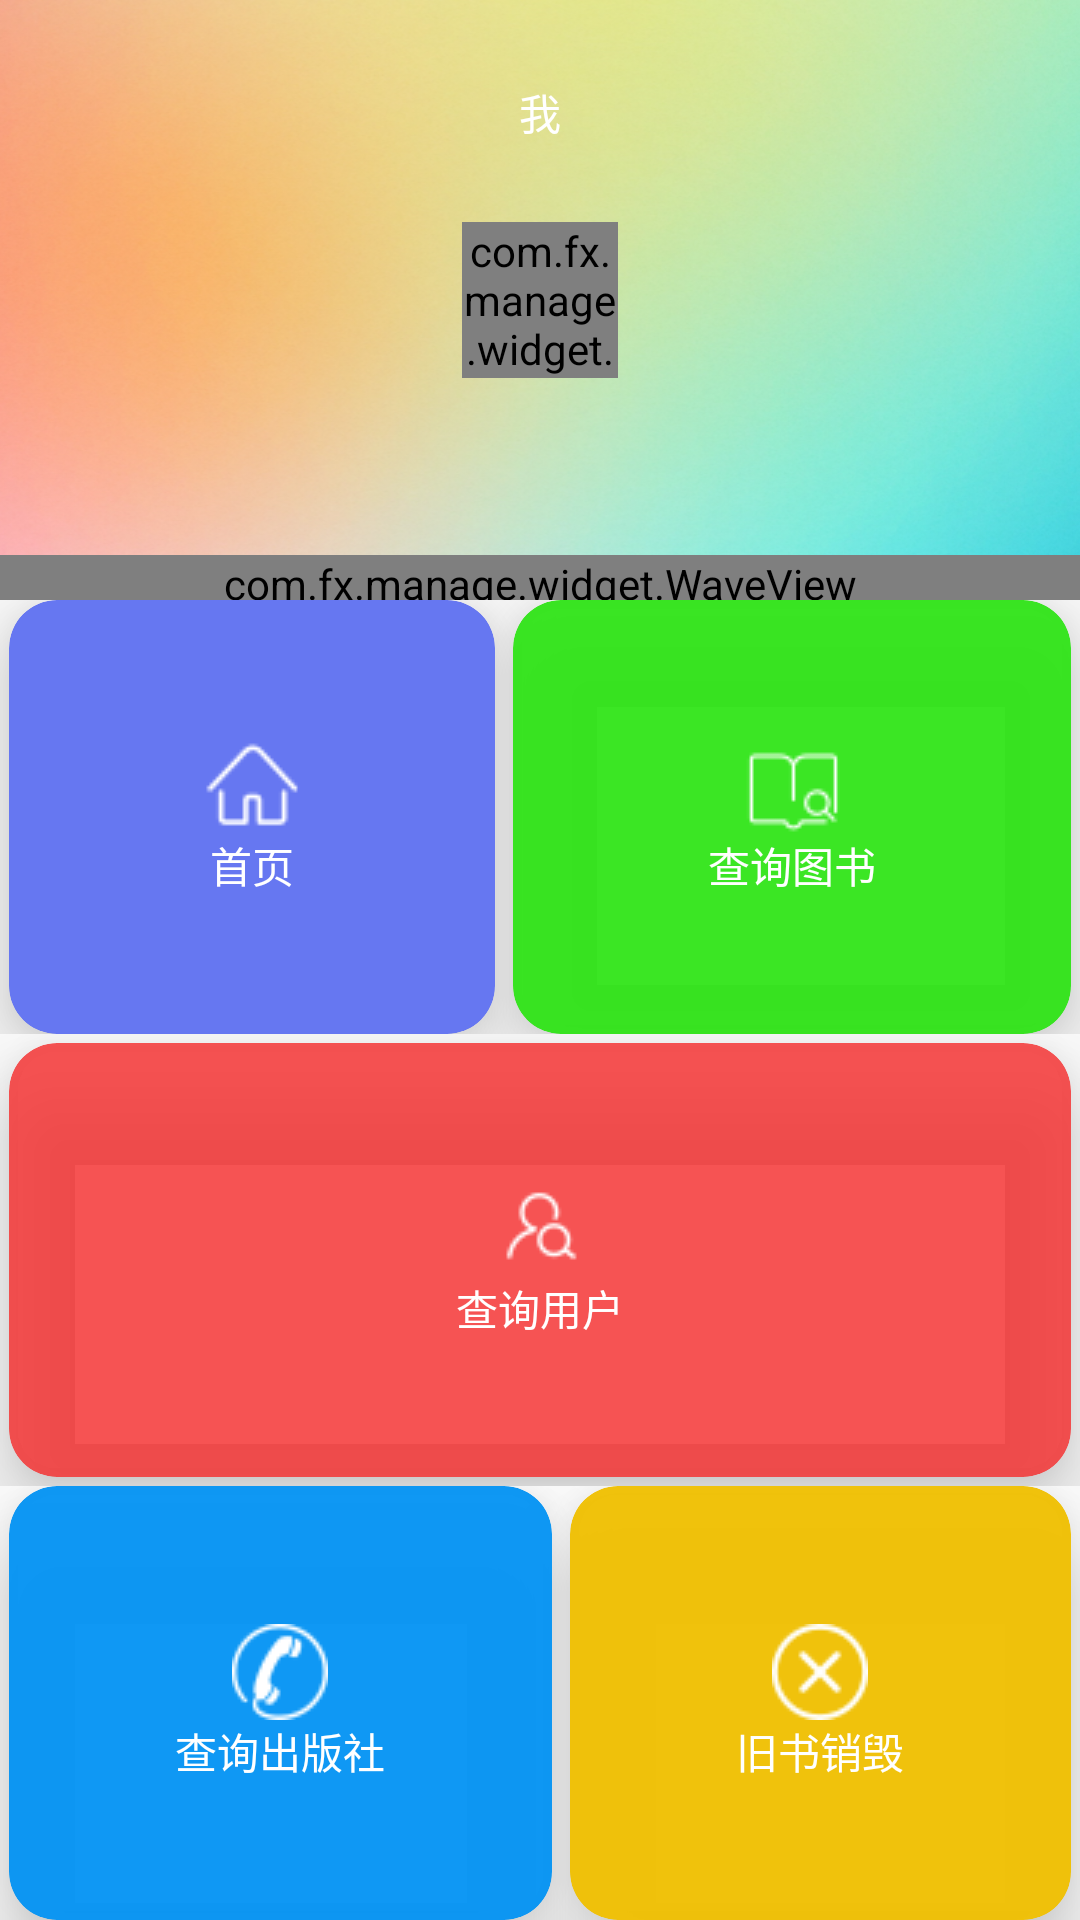

Icon click points for this 1080*1920 phone screenshot, format point (x, y):
mobile publishhouse: point (280, 1672)
